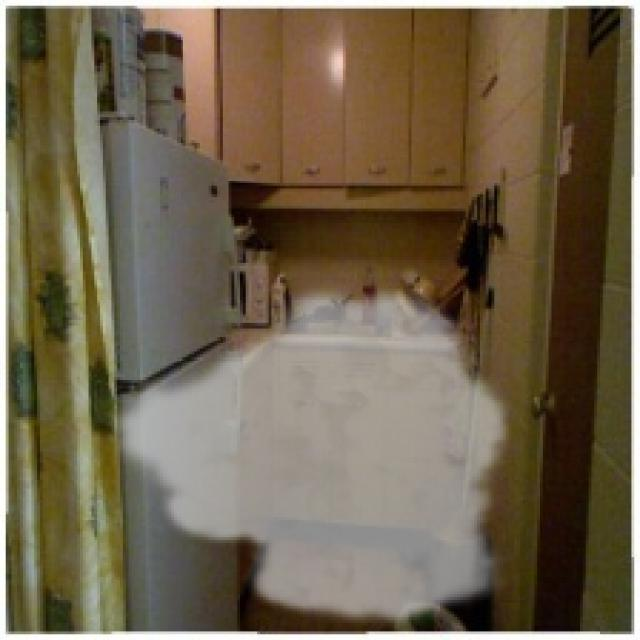Smoke: (102, 277, 514, 629)
